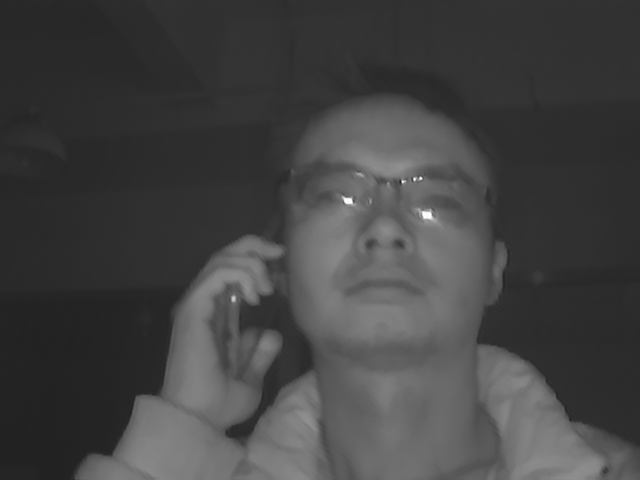hand: (157, 233, 286, 425)
